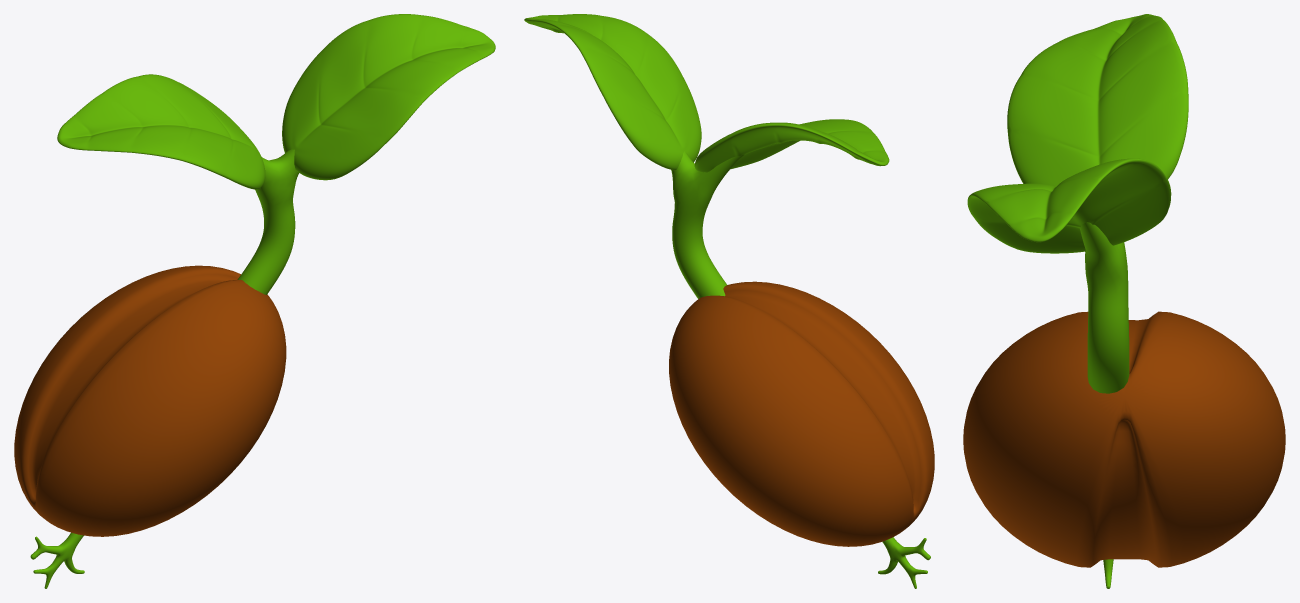
File: Seed.fbx
The picture shows the model from 3 angles, left to right: view 1: azimuth 30°, elevation 25°; view 2: azimuth 150°, elevation 25°; view 3: azimuth 270°, elevation 25°; orthographic projection. The views are drawn at different scales.
Parts seen in each view (by area): view 1: Sphere.017, Plane.040, Plane.041, Cube.125; view 2: Sphere.017, Plane.040, Cube.125, Plane.041; view 3: Sphere.017, Plane.041, Plane.040, Cube.125.
Boxes of the visible parts, left/top/right/bottom form: Sphere.017: left=14, top=265, right=286, bottom=536; Plane.040: left=282, top=14, right=495, bottom=180; Plane.041: left=57, top=74, right=265, bottom=189; Cube.125: left=30, top=149, right=298, bottom=588; Sphere.017: left=669, top=281, right=934, bottom=546; Plane.040: left=524, top=14, right=701, bottom=170; Cube.125: left=671, top=151, right=930, bottom=588; Plane.041: left=694, top=119, right=889, bottom=172; Sphere.017: left=963, top=311, right=1285, bottom=567; Plane.041: left=1007, top=14, right=1188, bottom=186; Plane.040: left=967, top=158, right=1171, bottom=253; Cube.125: left=1079, top=222, right=1129, bottom=588.
Size of what is drawn, in the model's own units: 191 by 202 by 93.18.
